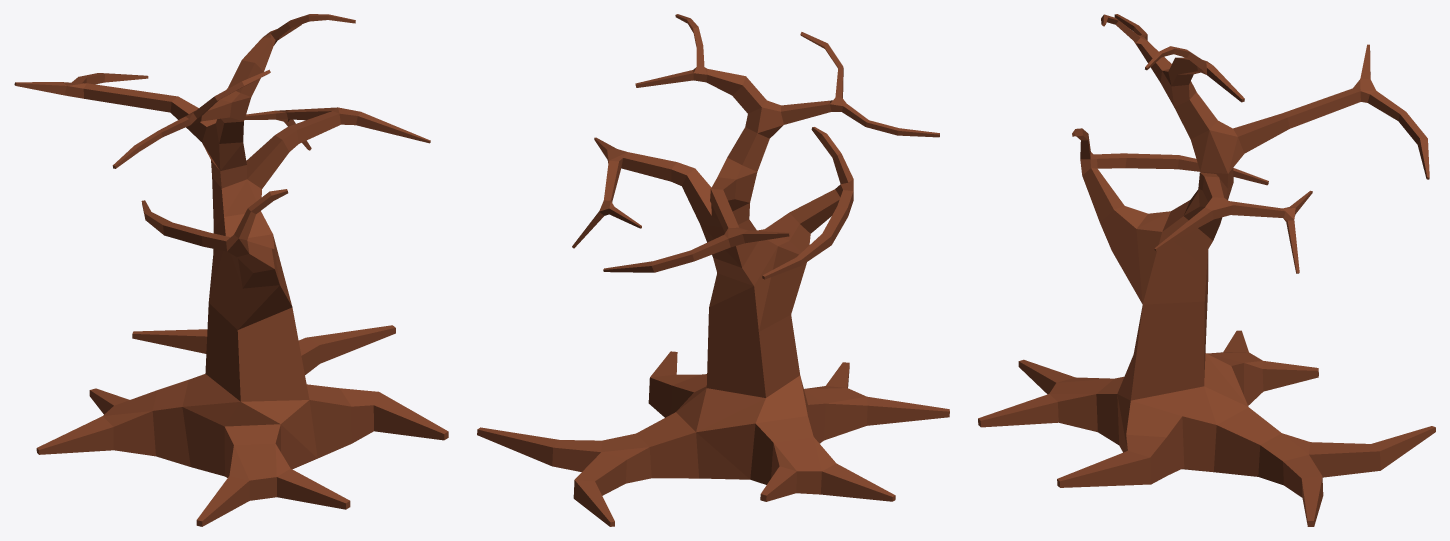
File: TreeTrunk_49.fbx
3 views of the same model, side by side, from view 1: azimuth 30°, elevation 25°; view 2: azimuth 150°, elevation 25°; view 3: azimuth 270°, elevation 25° (orthographic). The views are drawn at different scales.
Parts seen in each view (by area): view 1: TreeTrunk_49; view 2: TreeTrunk_49; view 3: TreeTrunk_49.
Part boxes in pixels (bbox=[...]): TreeTrunk_49: bbox=[14, 14, 448, 526]; TreeTrunk_49: bbox=[477, 14, 949, 526]; TreeTrunk_49: bbox=[978, 14, 1435, 526].
Bounding box in the file's own units: 489 × 512 × 496.
